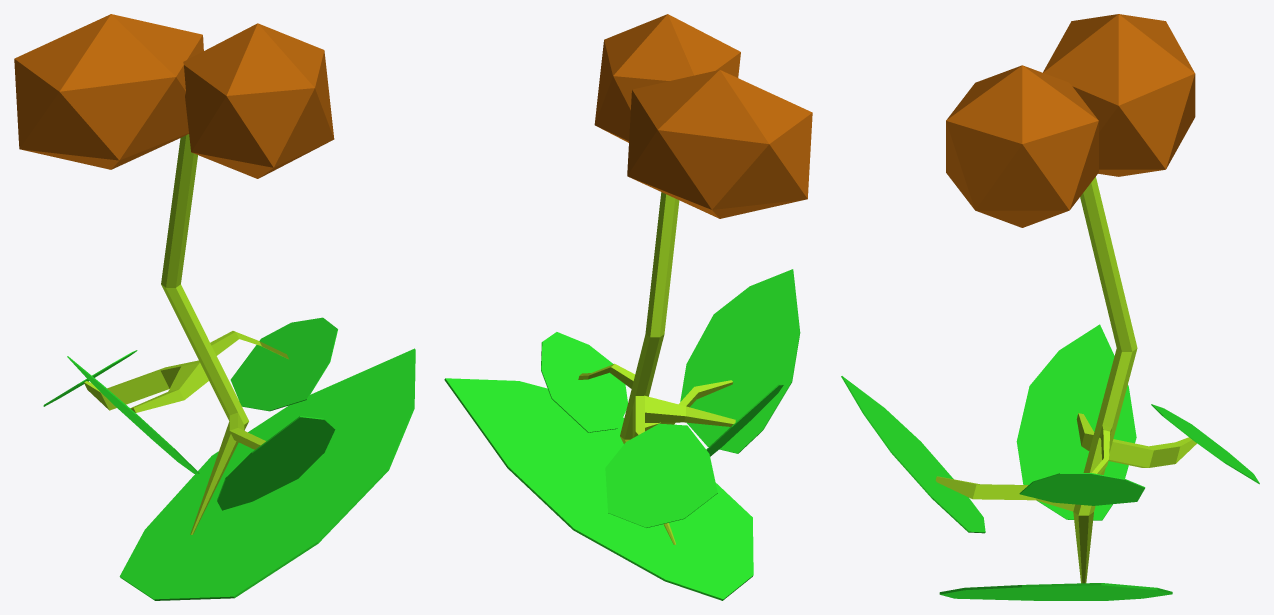
The model's file is Stage_1_2.fbx.
The picture shows the model from 3 angles, left to right: view 1: azimuth 30°, elevation 25°; view 2: azimuth 150°, elevation 25°; view 3: azimuth 270°, elevation 25°; orthographic projection. The views are drawn at different scales.
Visible parts, largest first — view 1: Plane.007; view 2: Plane.007; view 3: Plane.007.
Boxes of the visible parts, box(x1,y1,x2,y2) form: Plane.007: box(14, 14, 415, 600); Plane.007: box(444, 14, 812, 600); Plane.007: box(841, 14, 1259, 600).
Size of the model in its own units: 229 by 315 by 205.
